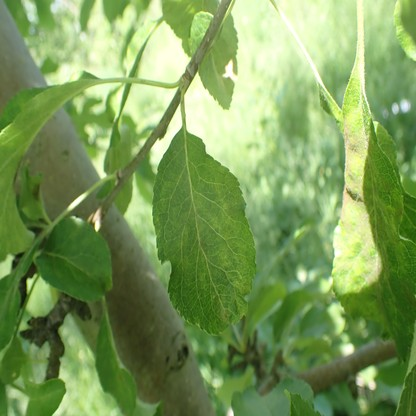scab: (334, 119, 411, 331), (158, 136, 246, 320)
